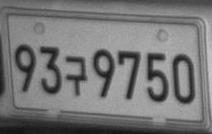0: (171, 52, 195, 104)
3: (39, 45, 62, 94)
5: (146, 51, 169, 102)
7: (117, 49, 142, 99)
9: (92, 48, 115, 98), (14, 43, 36, 92)
구: (64, 55, 88, 96)
